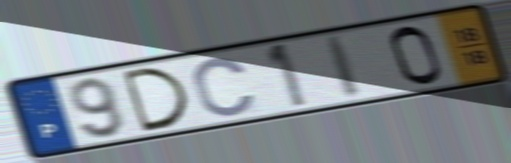0: (387, 23, 444, 87)
1: (263, 40, 311, 111)
9: (67, 75, 129, 140)
C: (190, 55, 259, 118)
D: (118, 65, 193, 135)
I: (322, 32, 366, 101)
